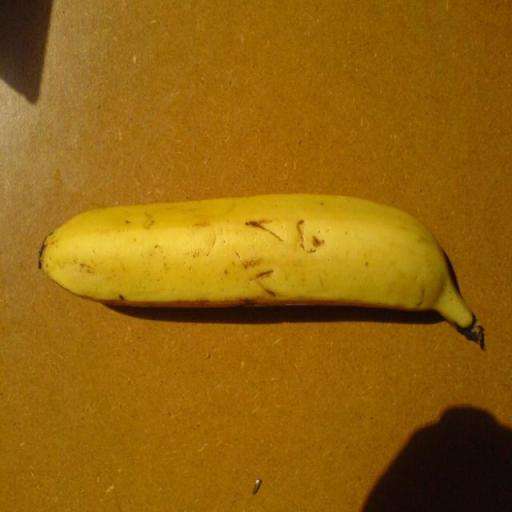fruit: (40, 195, 483, 345)
